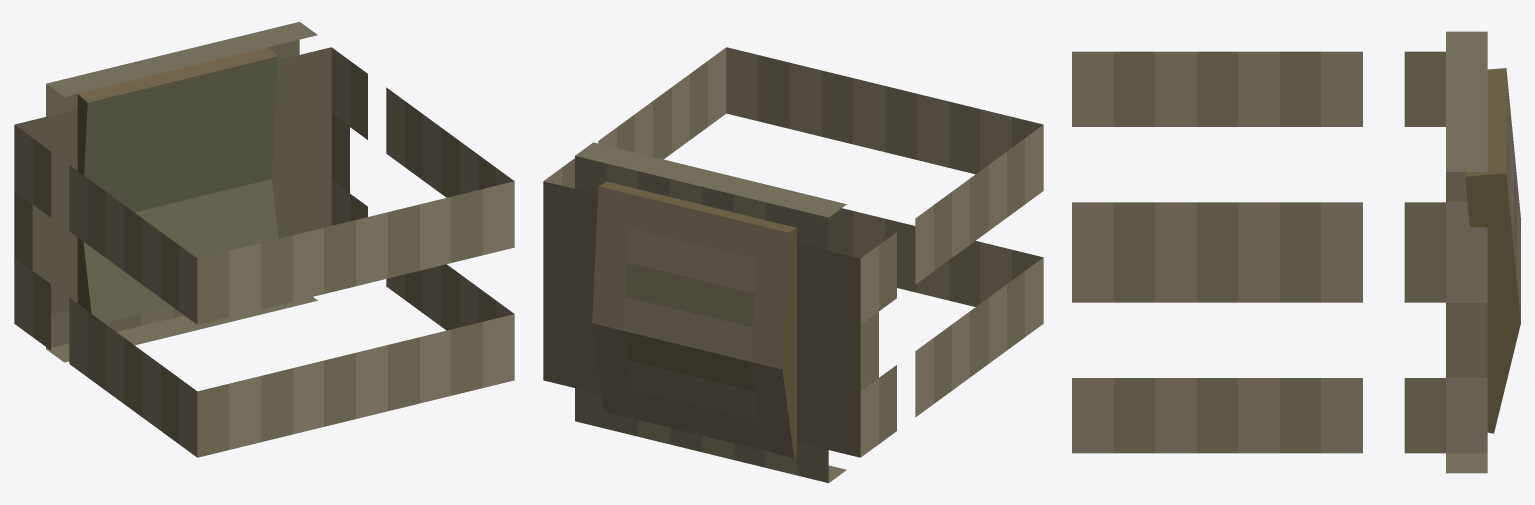
Rendered from generic_light_tan_p_l.obj.
3 views of the same model, side by side, from view 1: azimuth 30°, elevation 25°; view 2: azimuth 150°, elevation 25°; view 3: azimuth 270°, elevation 25° (orthographic). The views are drawn at different scales.
Visible parts, largest first — view 1: mesh; view 2: mesh; view 3: mesh.
Part boxes in pixels (<box>): mesh: <box>14,21,514,457</box>; mesh: <box>543,47,1043,483</box>; mesh: <box>1072,31,1520,473</box>.
Bounding box in the file's own units: 0.3125 × 0.25 × 0.3375.
